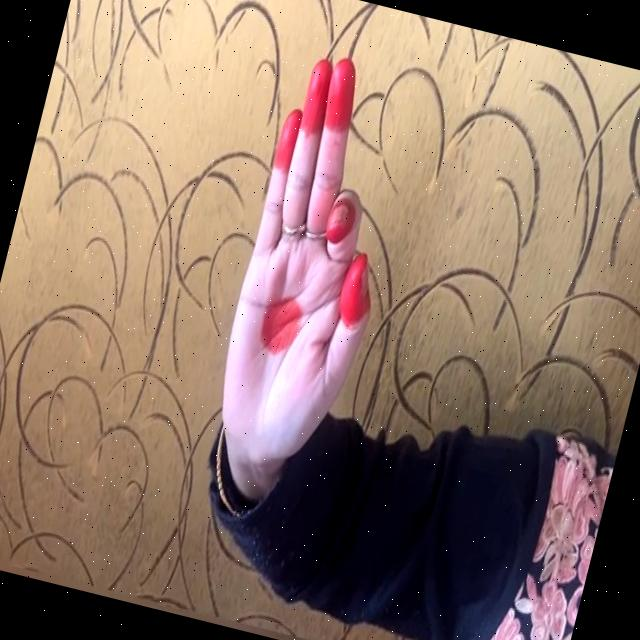Arala: (158, 31, 453, 522)
